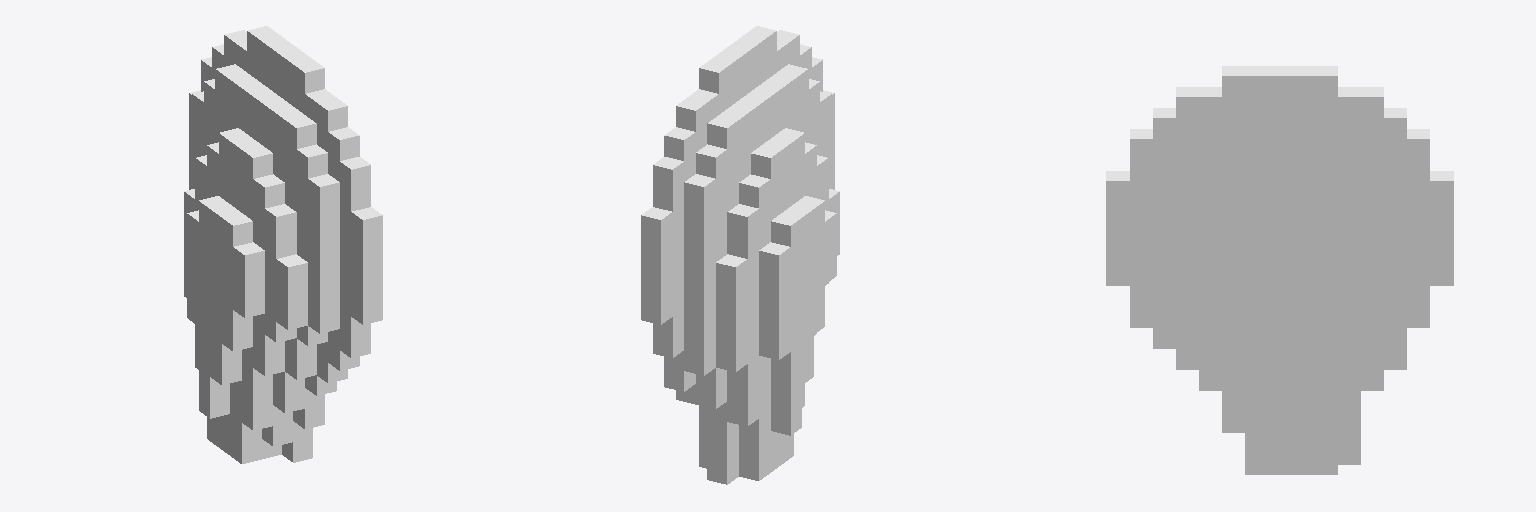
The model's file is Bernard_Leg_Front_Right_Upper.obj.
The picture shows the model from 3 angles: view 1: azimuth 30°, elevation 25°; view 2: azimuth 150°, elevation 25°; view 3: azimuth 270°, elevation 25°; orthographic projection.
Parts seen in each view (by area): view 1: Bernard; view 2: Bernard; view 3: Bernard.
Boxes of the visible parts, x1,y1,x2,y2 form: Bernard: [184, 26, 382, 463]; Bernard: [641, 26, 839, 484]; Bernard: [1106, 66, 1453, 474].
Bounding box in the file's own units: 0.4 × 1.9 × 1.5.